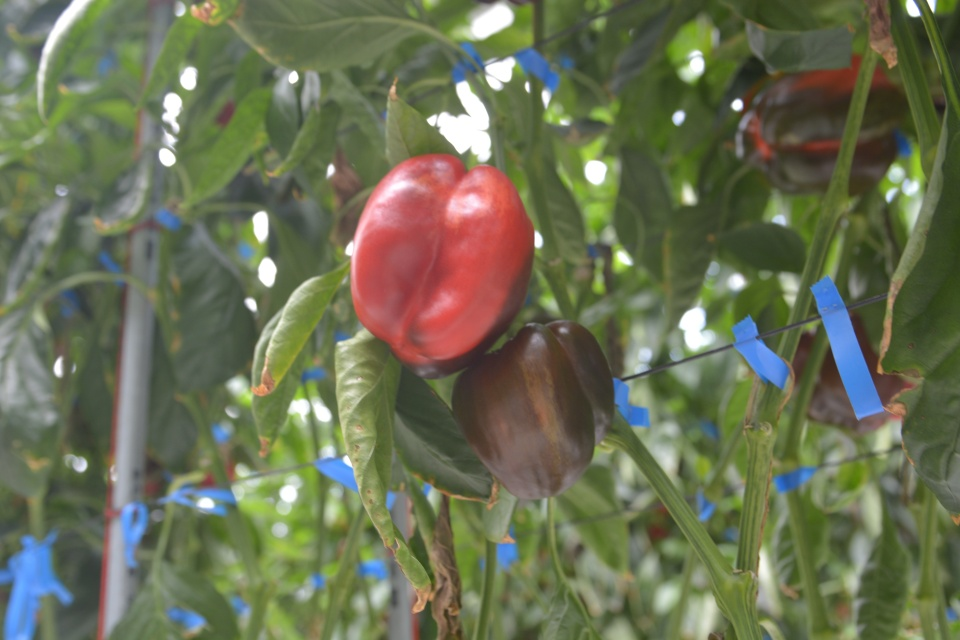fruit: (346, 148, 540, 384), (448, 314, 623, 504), (733, 51, 905, 198), (788, 306, 916, 434)
